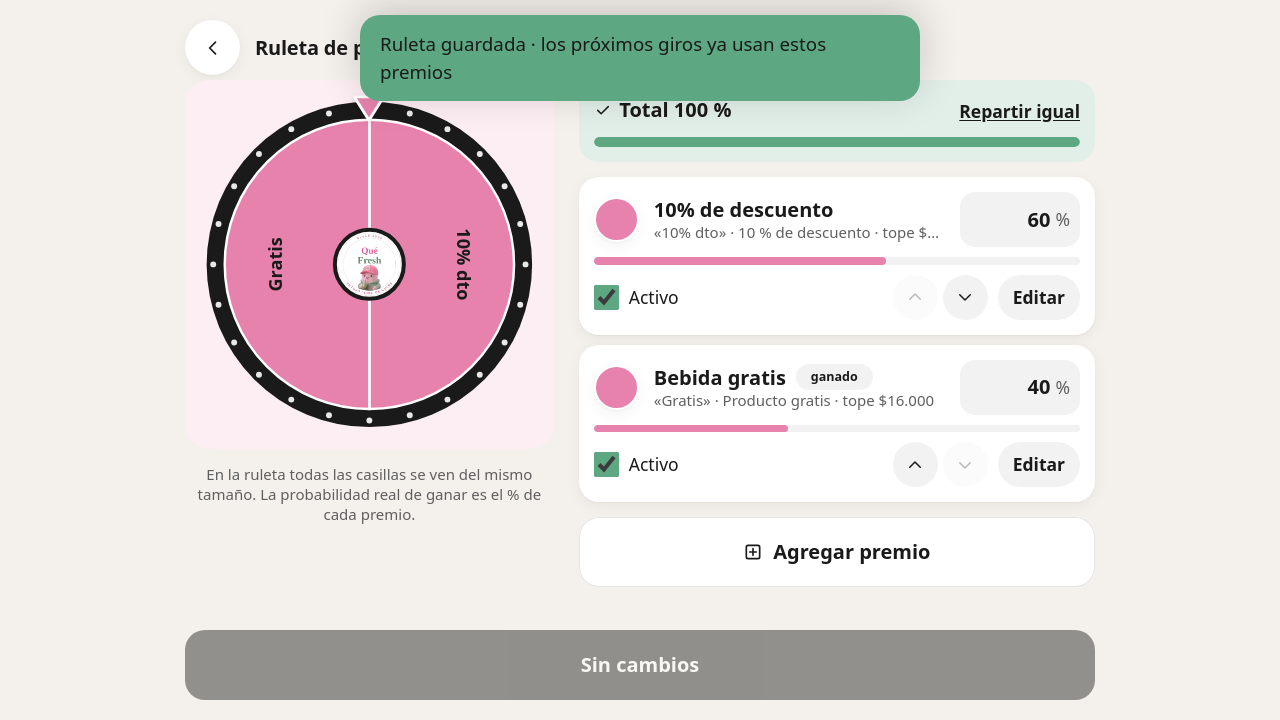
Test: Ruleta de premios (editor) › shows the server message when saving fails
The width and height of the screenshot is (1280, 720).
Click the button "Repartir igual".
click(1020, 111)  # box [959, 98, 1080, 124]
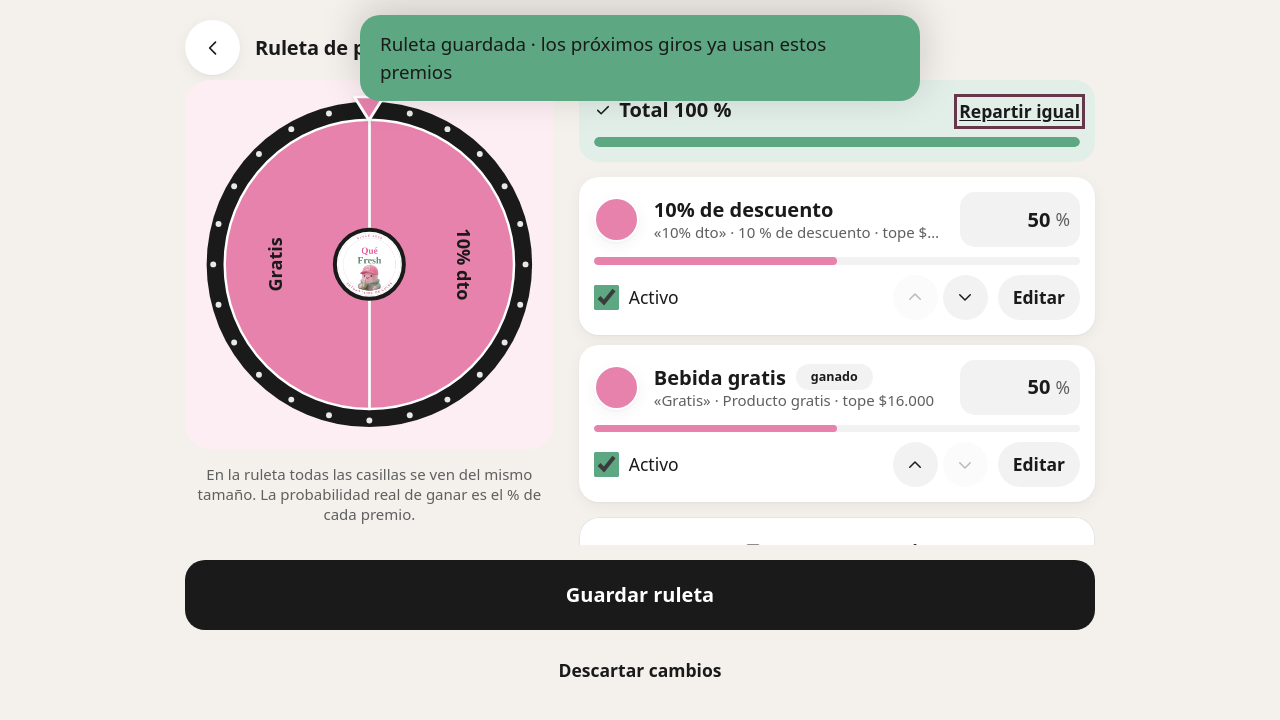
Click the button "Guardar ruleta".
click(640, 595)  # box [185, 560, 1095, 630]
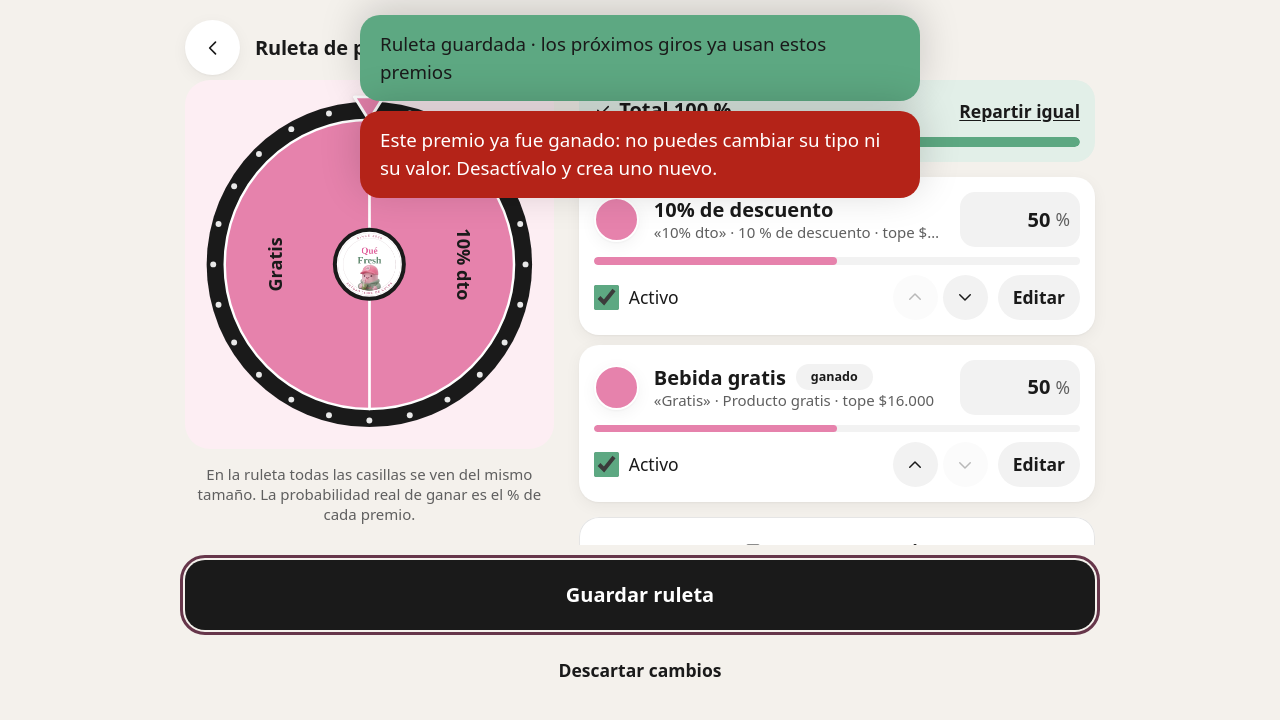
expect the button "no puedes cambiar su tipo ni su valor" is shown: met, box [360, 111, 920, 198]
